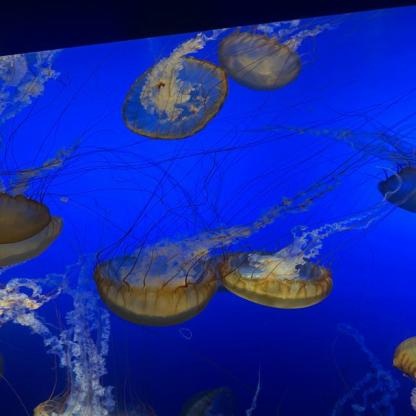jellyfish: (123, 48, 227, 137), (100, 256, 218, 326), (214, 250, 336, 313), (222, 34, 299, 91), (0, 191, 59, 263), (32, 387, 125, 416), (376, 163, 416, 217), (385, 330, 416, 377)
